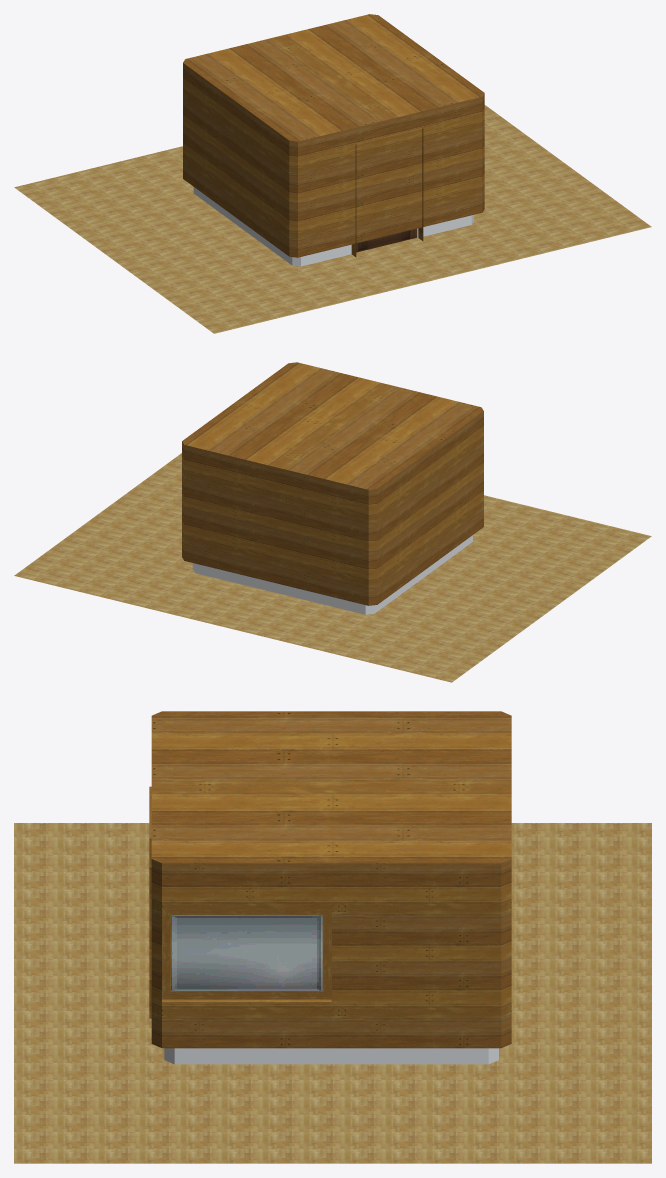
3 views of the same model, one above another, from view 1: azimuth 30°, elevation 25°; view 2: azimuth 150°, elevation 25°; view 3: azimuth 270°, elevation 25° (orthographic). The views are drawn at different scales.
Parts seen in each view (by area): view 1: wood.012, offroad.007, white.003, door.008; view 2: wood.012, offroad.007, white.003; view 3: offroad.007, wood.012, sh_glass.003, white.003.
Part boxes in pixels (x1=…): wood.012: x1=183, y1=14, x2=484, y2=257; offroad.007: x1=14, y1=105, x2=651, y2=333; white.003: x1=193, y1=187, x2=473, y2=266; door.008: x1=356, y1=228, x2=417, y2=252; wood.012: x1=182, y1=362, x2=483, y2=605; offroad.007: x1=14, y1=453, x2=651, y2=682; white.003: x1=192, y1=535, x2=472, y2=614; offroad.007: x1=14, y1=823, x2=651, y2=1163; wood.012: x1=149, y1=711, x2=511, y2=1048; sh_glass.003: x1=171, y1=915, x2=322, y2=991; white.003: x1=164, y1=1048, x2=498, y2=1064.
Bounding box in the file's own units: 196560 × 56227 × 155610.
Materials: 14 (14 with a texture image).
